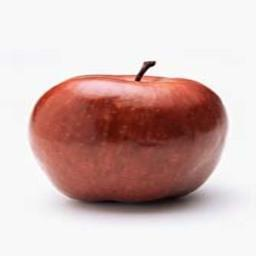apple: (29, 62, 226, 203)
